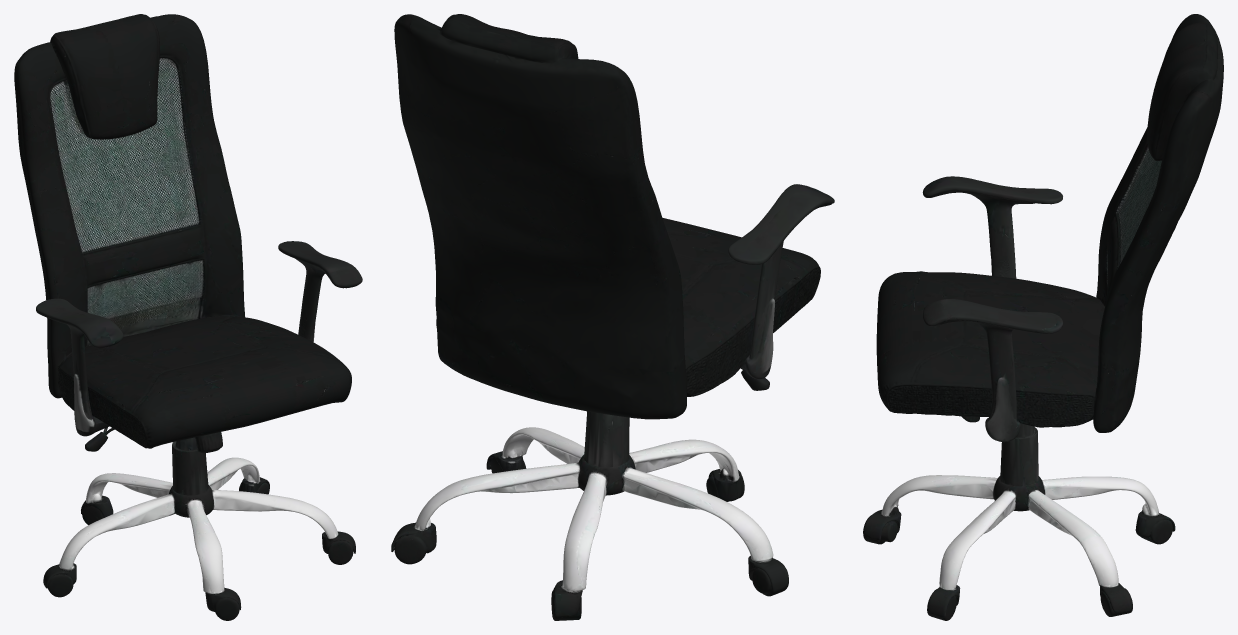
The model's file is buerostuhl-02.glb.
3 views of the same model, side by side, from view 1: azimuth 30°, elevation 25°; view 2: azimuth 150°, elevation 25°; view 3: azimuth 270°, elevation 25° (orthographic). The views are drawn at different scales.
Bounding box in the file's own units: 1.15 × 1.9 × 1.22.
Materials: 1 (1 with a texture image).
